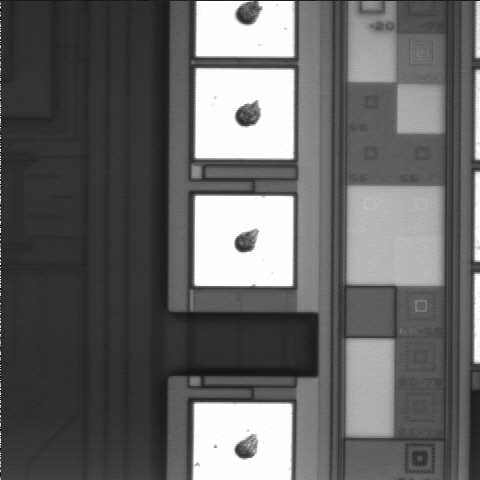pad: (195, 68, 294, 159), (195, 196, 293, 286)
